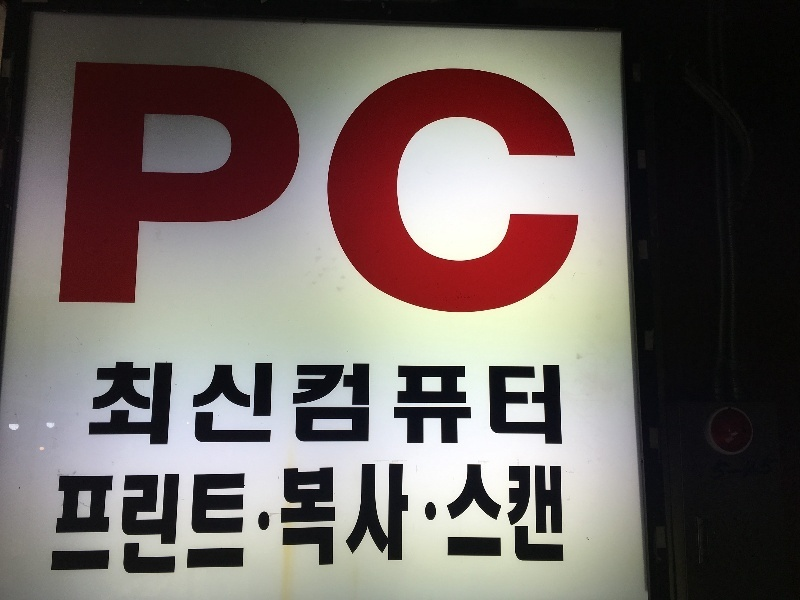text: (81, 57, 96, 320), (97, 57, 112, 320), (113, 57, 128, 320), (129, 57, 144, 320), (145, 57, 160, 320), (161, 57, 176, 320), (177, 57, 192, 320), (193, 57, 208, 320), (209, 57, 224, 320), (225, 57, 240, 320), (241, 57, 256, 320), (257, 57, 272, 320), (273, 57, 288, 320), (289, 57, 304, 320), (305, 57, 320, 320), (321, 57, 336, 320), (337, 57, 352, 320), (353, 57, 368, 320), (369, 57, 384, 320), (385, 57, 400, 320), (401, 57, 416, 320), (417, 57, 432, 320), (433, 57, 448, 320), (449, 57, 464, 320), (465, 57, 480, 320), (481, 57, 496, 320), (497, 57, 512, 320), (513, 57, 528, 320), (529, 57, 544, 320), (545, 57, 560, 320), (561, 57, 576, 320), (71, 57, 80, 320), (577, 57, 584, 320), (289, 464, 304, 568), (305, 464, 320, 568), (321, 464, 336, 568), (337, 464, 352, 568), (353, 464, 368, 568), (369, 464, 384, 568), (385, 464, 400, 568), (449, 464, 464, 564), (465, 464, 480, 564), (481, 464, 496, 564), (497, 464, 512, 564), (513, 464, 528, 564), (529, 464, 544, 564), (545, 464, 560, 564), (65, 474, 80, 572), (81, 474, 96, 572), (97, 474, 112, 572), (113, 474, 128, 572), (129, 474, 144, 572), (145, 474, 160, 572), (161, 474, 176, 572), (177, 474, 192, 572), (193, 474, 208, 572), (209, 474, 224, 572), (225, 474, 240, 572), (97, 359, 112, 450), (113, 359, 128, 450), (129, 359, 144, 450), (145, 359, 160, 450), (161, 359, 176, 450), (177, 359, 192, 450), (193, 359, 208, 450), (209, 359, 224, 450), (225, 359, 240, 450), (241, 359, 256, 450), (257, 359, 272, 450), (273, 359, 288, 450), (289, 359, 304, 450), (305, 359, 320, 450), (321, 359, 336, 450), (337, 359, 352, 450), (353, 359, 368, 450), (369, 359, 384, 450), (385, 359, 400, 450), (401, 359, 416, 450), (417, 359, 432, 450), (433, 359, 448, 450), (449, 359, 464, 450), (465, 359, 480, 450), (481, 359, 496, 450), (497, 359, 512, 450), (513, 359, 528, 450), (529, 359, 544, 450), (545, 359, 560, 450), (401, 464, 412, 568), (54, 474, 64, 572), (241, 474, 248, 572), (561, 359, 568, 450), (284, 464, 288, 568), (561, 464, 565, 564), (721, 458, 736, 479), (737, 458, 752, 479), (753, 458, 768, 479), (711, 458, 720, 479), (769, 458, 777, 479), (95, 359, 96, 450)
